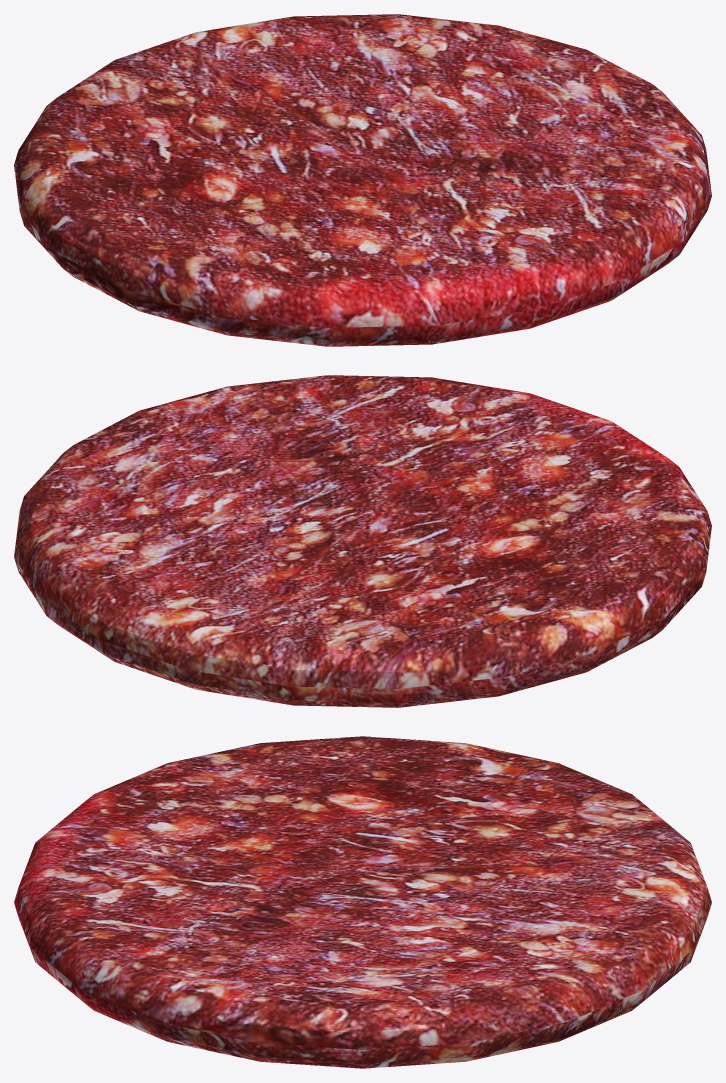
The model's file is UnCookedStack.fbx.
3 renders of one model, top to bottom at view 1: azimuth 30°, elevation 25°; view 2: azimuth 150°, elevation 25°; view 3: azimuth 270°, elevation 25°, orthographic.
Visible parts, largest first — view 1: pCylinder3; view 2: pCylinder3; view 3: pCylinder3.
Part boxes in pixels (box(x1,y1,x2,y2)): pCylinder3: box(14, 14, 711, 346); pCylinder3: box(14, 375, 711, 707); pCylinder3: box(14, 736, 711, 1068).
Bounding box in the file's own units: 6.2 × 0.5822 × 6.2.
